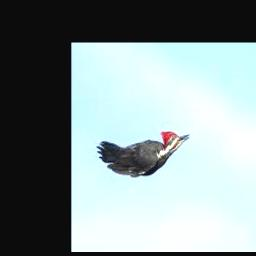Woodpecker: (95, 131, 189, 176)
